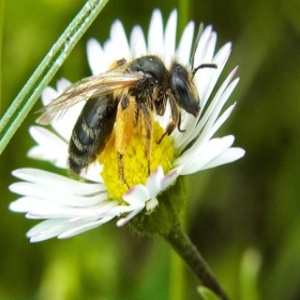bee: (68, 55, 218, 170)
